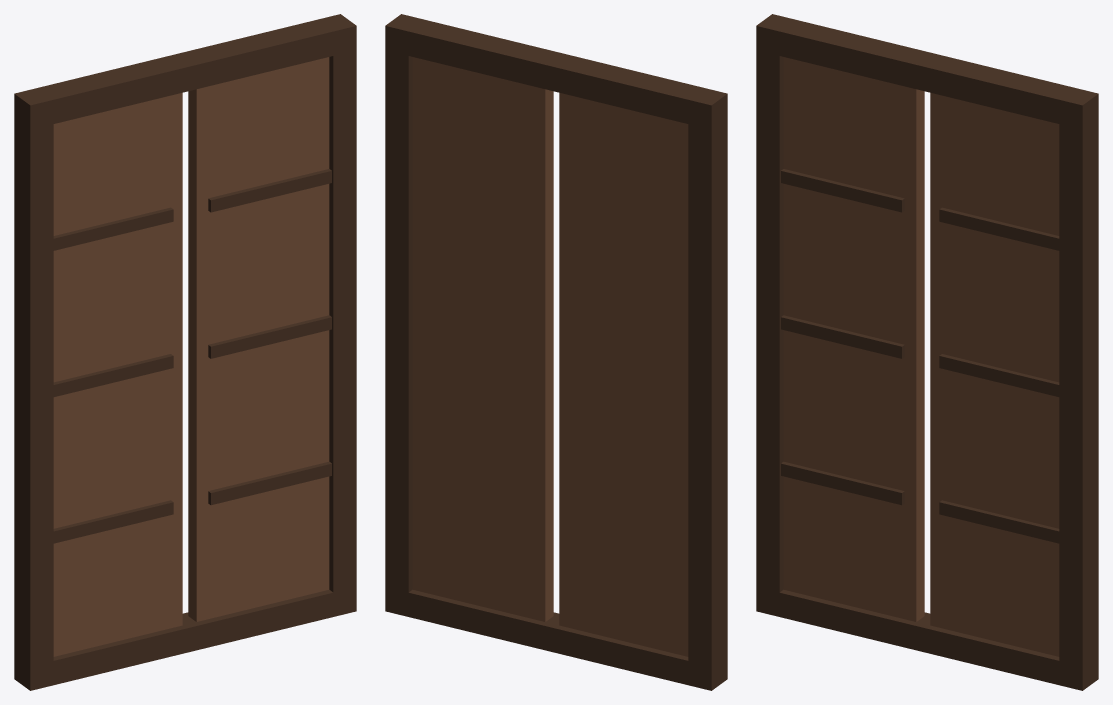
File: env_house_shop_door.glb
The picture shows the model from 3 angles, left to right: view 1: azimuth 30°, elevation 25°; view 2: azimuth 150°, elevation 25°; view 3: azimuth 330°, elevation 25°; orthographic projection.
Visible parts, largest first — view 1: ENV_House_Shop_Door; view 2: ENV_House_Shop_Door; view 3: ENV_House_Shop_Door.
Part boxes in pixels (box(x1,y1,x2,y2)): ENV_House_Shop_Door: box(14, 14, 356, 690); ENV_House_Shop_Door: box(385, 14, 727, 690); ENV_House_Shop_Door: box(756, 14, 1098, 690).
Bounding box in the file's own units: 1.4 × 2.4 × 0.12.
